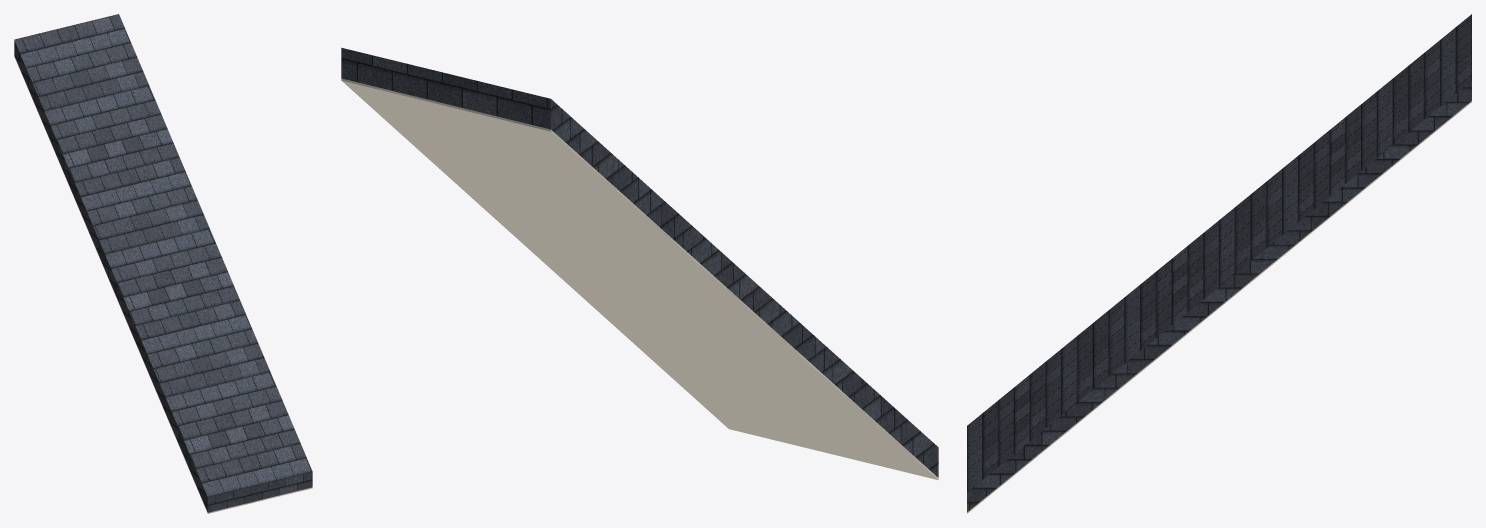
Rendered from nave_slope.glb.
3 renders of one model, left to right at view 1: azimuth 30°, elevation 25°; view 2: azimuth 150°, elevation 25°; view 3: azimuth 270°, elevation 25°, orthographic. The views are drawn at different scales.
Parts seen in each view (by area): view 1: nave_slope_shingle, nave_slope_plaster; view 2: nave_slope_plaster, nave_slope_shingle; view 3: nave_slope_shingle, nave_slope_plaster.
Boxes of the visible parts, x1,y1,x2,y2 form: nave_slope_shingle: (14, 14, 312, 512); nave_slope_plaster: (14, 56, 312, 513); nave_slope_plaster: (341, 78, 938, 480); nave_slope_shingle: (341, 47, 938, 477); nave_slope_shingle: (967, 14, 1471, 512); nave_slope_plaster: (967, 101, 1471, 513).
Bounding box in the file's own units: 2 × 6.06 × 6.4.
Materials: 2 (2 with a texture image).
